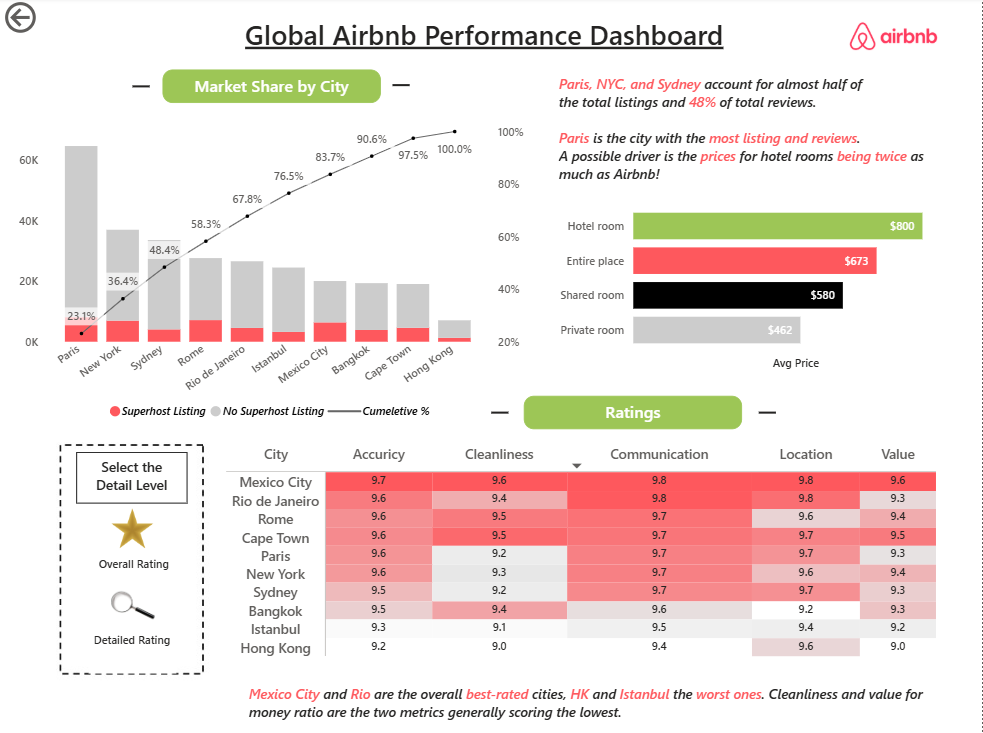

What the dashboard file says about the page in this screenshot:
{"tool":"powerbi","page":{"name":"Ratings","canvas":[960,720],"ordinal":1},"visuals":[{"type":"textbox","box":[234.2,13.5,491.6,50.1],"z":0},{"type":"image","box":[799.7,12.2,149.2,51.4],"z":1000},{"type":"textbox","box":[159,70.9,214,33],"z":2000},{"type":"textbox","box":[541.7,70.9,390.1,135.7],"z":3000},{"type":"lineStackedColumnComboChart","fields":{"Category":["Listings.city"],"Y":["Listings.Superhost Listing","Listings.NoSuperhost Listing"],"Y2":["Listings.Cumeletive %"]},"box":[13.5,116.2,505,306.9],"z":4000},{"type":"barChart","fields":{"Y":["Listings.Avg Price"],"Category":["Listings.room_type"]},"box":[541.7,184.6,401.1,184.6],"z":5000},{"type":"columnChart","fields":{"Y":["Listings.Avg Rating"],"Category":["Listings.city"]},"box":[234.8,445.1,673.8,248.2],"z":6000},{"type":"image","box":[0,380.3,256.8,339.9],"z":7000},{"type":"pivotTable","fields":{"Rows":["Listings.city"],"Values":["Listings.Accuricy","Listings.Clinliness","Listings.Communication","Listings.Location","Listings.Value"]},"box":[216.4,432.9,715.4,260.5],"z":8000},{"type":"image","box":[108.8,564.9,42.8,59.9],"z":8000,"group":"g2"},{"type":"actionButton","box":[0,0,100,40],"z":9000},{"type":"image","box":[100.3,500.1,58.7,39.1],"z":9000,"group":"g1"},{"type":"textbox","box":[74.6,445.1,108.8,50.1],"z":10000},{"type":"group","id":"g1","title":"Group 1","box":[91.7,500.1,86.8,69.7],"z":11000},{"type":"group","id":"g2","title":"Group 2","box":[86.8,564.9,85.6,96.6],"z":12000},{"type":"textbox","box":[91.7,539.2,86.8,30.6],"z":13000,"group":"g1"},{"type":"textbox","box":[238.5,667.7,693.3,52.6],"z":13000},{"type":"textbox","box":[86.8,613.8,85.6,47.7],"z":13001,"group":"g2"},{"type":"textbox","box":[512.4,390.1,214,33],"z":14000},{"type":"shape","box":[129.6,68.5,17.1,37.9],"z":15000},{"type":"shape","box":[384,67.3,17.1,37.9],"z":16000},{"type":"shape","box":[480.6,387.6,17.1,37.9],"z":17000},{"type":"shape","box":[742.3,387.6,17.1,37.9],"z":18000}]}

Visuals, with their boxes in screenshot pixels (x1, y1, x2, y2), scaled from the page's 960x720 canvas onto the 983x733 screenshot:
textbox: [240,14,743,65]
image: [819,12,972,65]
textbox: [163,72,382,106]
textbox: [555,72,954,210]
lineStackedColumnComboChart - Listings.city x Listings.Superhost Listing: [14,118,531,431]
barChart - Listings.Avg Price x Listings.room_type: [555,188,965,376]
columnChart - Listings.Avg Rating x Listings.city: [240,453,930,706]
image: [0,387,263,732]
pivotTable - Listings.city x Listings.Accuricy: [222,441,954,706]
image: [111,575,155,636]
actionButton: [0,0,102,41]
image: [103,509,163,549]
textbox: [76,453,188,504]
"Group 1" group: [94,509,183,580]
"Group 2" group: [89,575,177,673]
textbox: [94,549,183,580]
textbox: [244,680,954,732]
textbox: [89,625,177,673]
textbox: [525,397,744,431]
shape: [133,70,150,108]
shape: [393,69,411,107]
shape: [492,395,510,433]
shape: [760,395,778,433]
